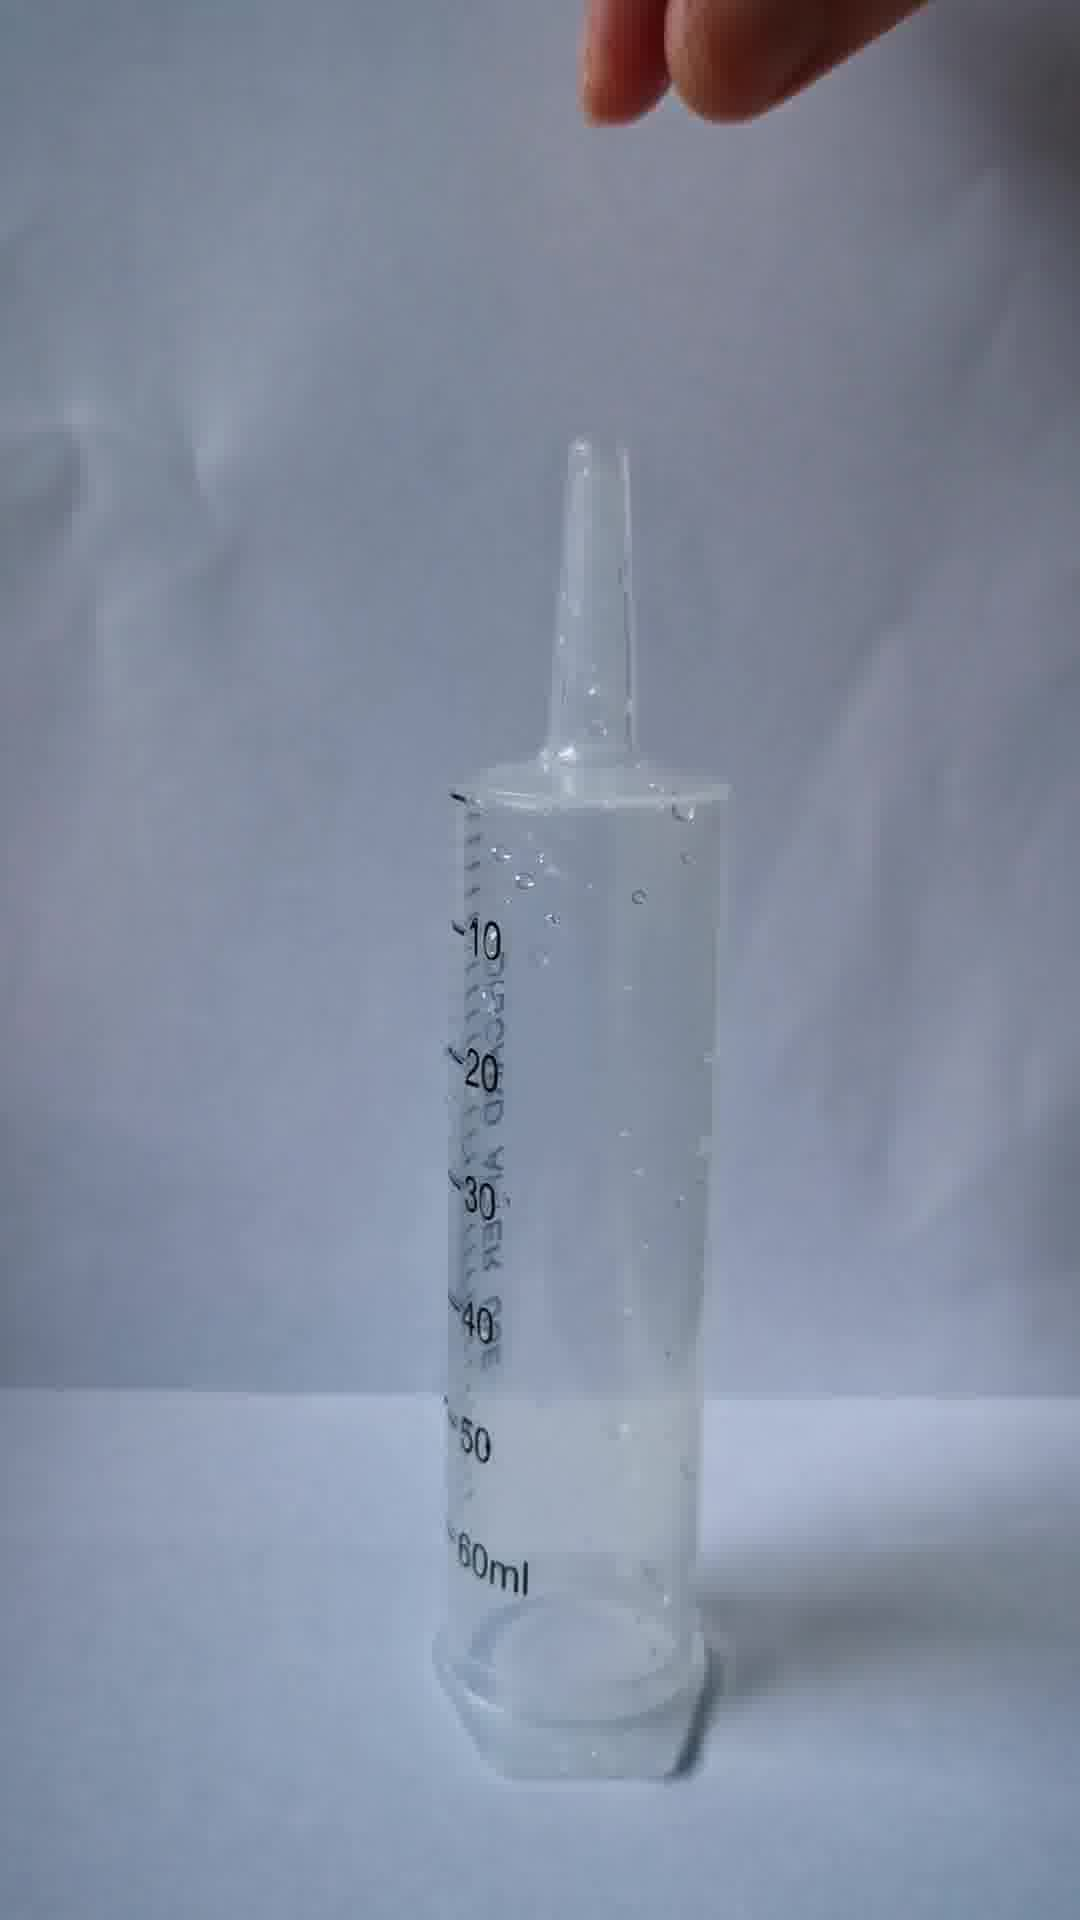syringe: (433, 431, 733, 1800)
